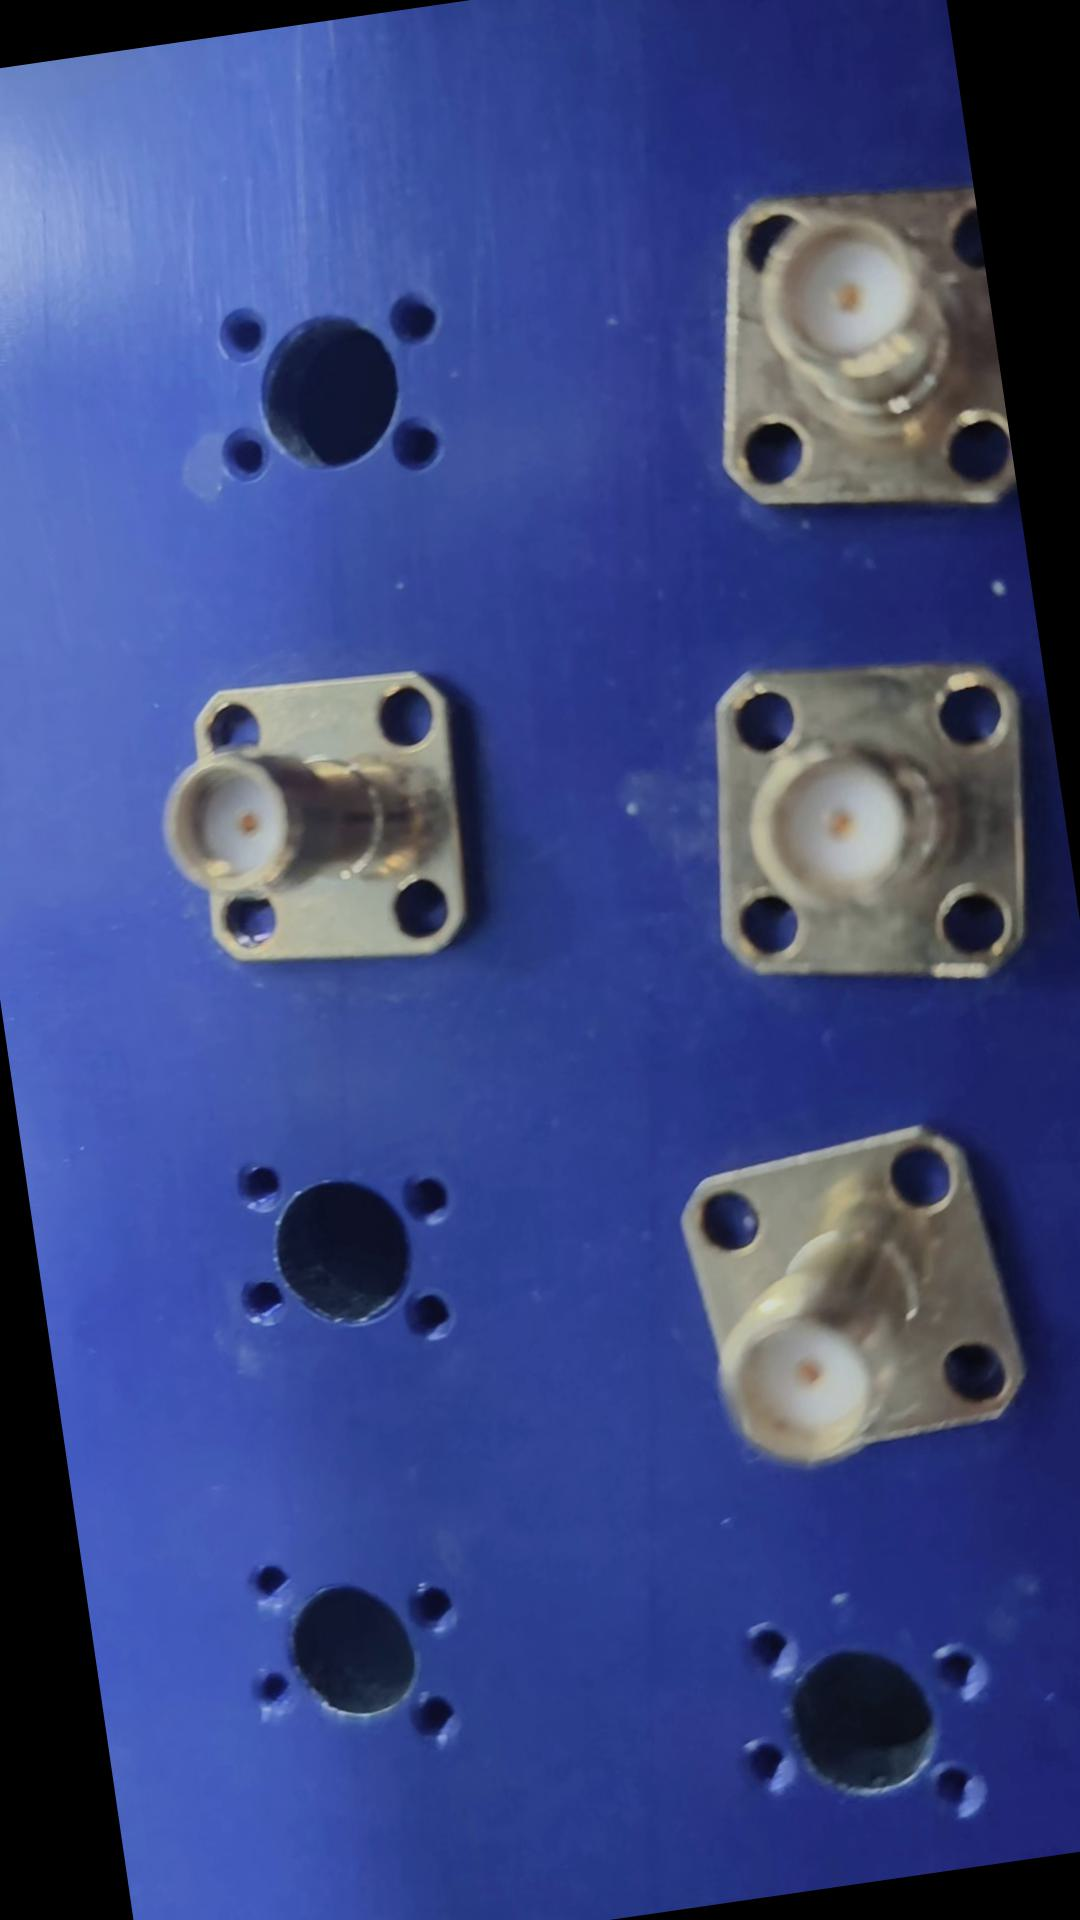SMA: (680, 640, 1051, 1015), (646, 1122, 1040, 1473), (673, 164, 1019, 553), (145, 640, 501, 996)
